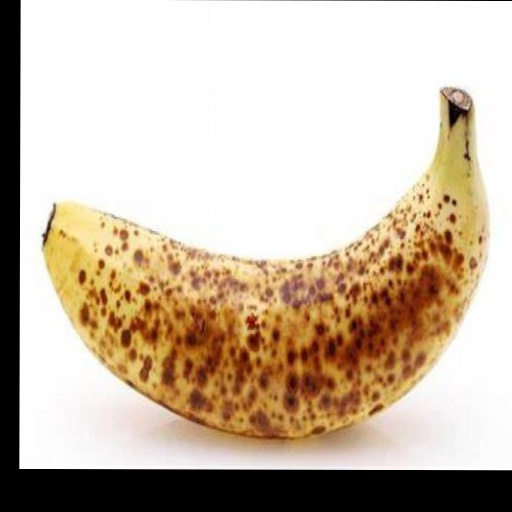fruit: (43, 89, 487, 437)
